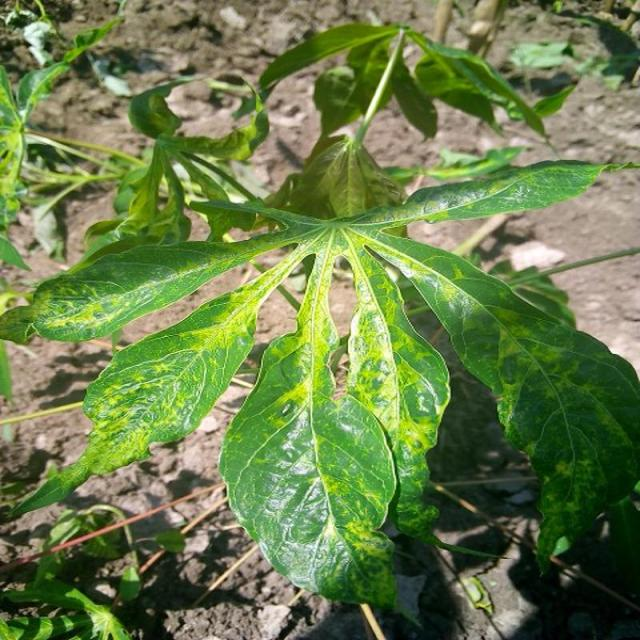cassava leaf: (3, 22, 639, 614)
